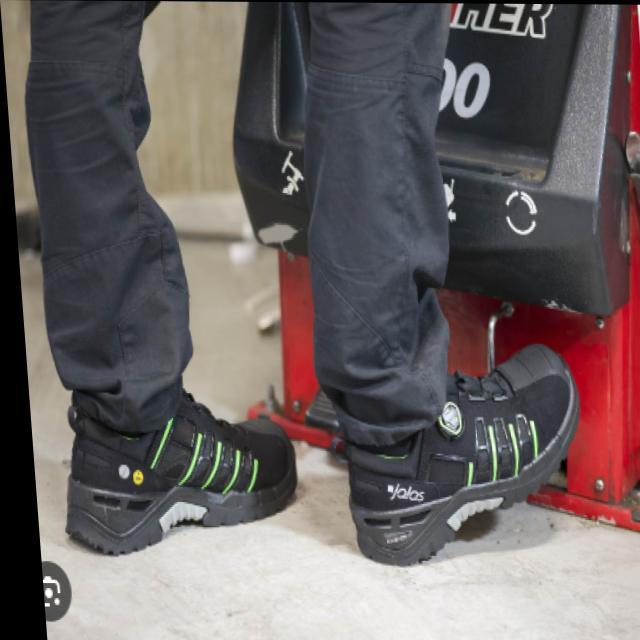shoes: (45, 299, 592, 576)
